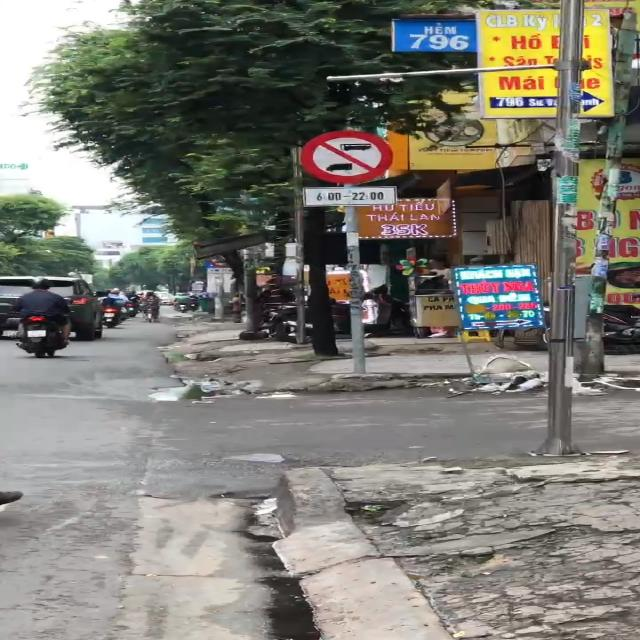Bien bao cam xe oto khach va xe oto tai: (288, 126, 398, 186)
